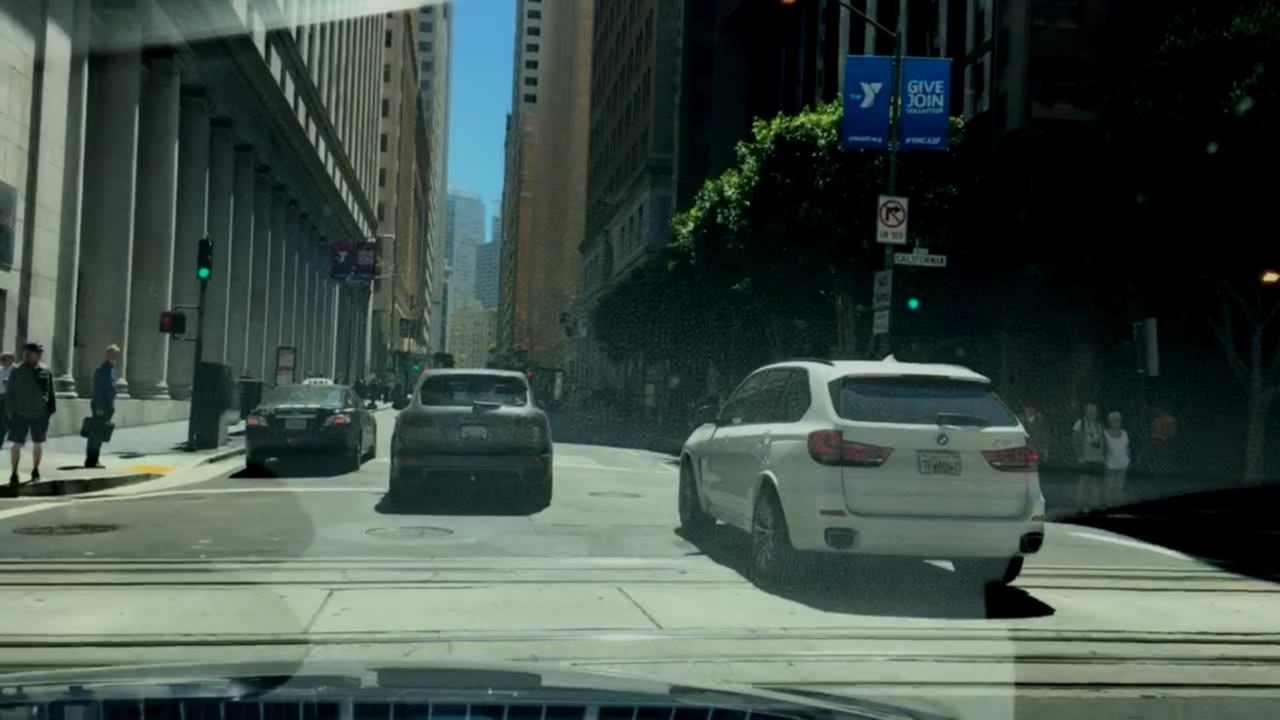bmw: (928, 428, 956, 451)
